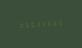five: (41, 19, 46, 27), (59, 18, 64, 26), (23, 21, 28, 28)
six: (47, 19, 52, 27), (53, 19, 58, 26)
three: (35, 20, 40, 28)
zero: (17, 21, 22, 29), (29, 20, 34, 28)
